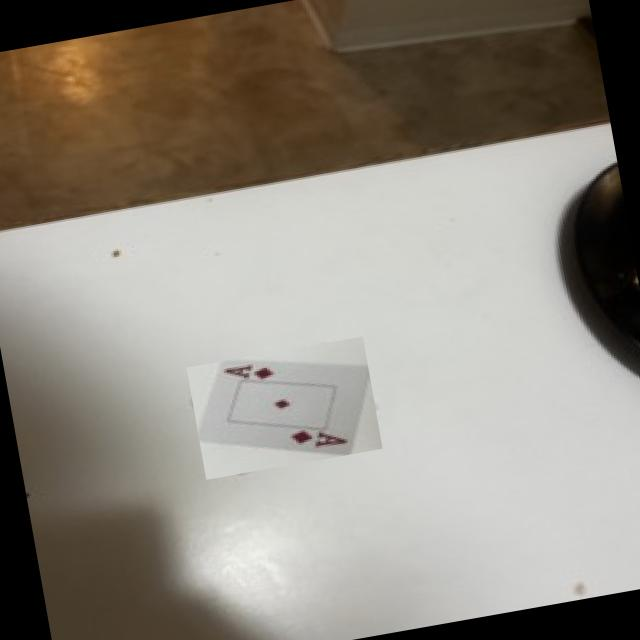Ace of diamonds: (200, 360, 368, 454)
